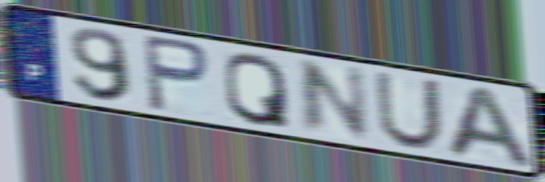9: (67, 27, 135, 104)
A: (441, 83, 538, 172)
N: (296, 58, 373, 142)
P: (140, 31, 214, 116)
Q: (222, 50, 293, 131)
U: (372, 70, 445, 153)
